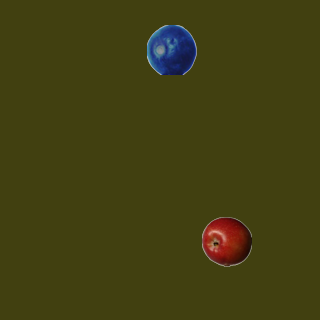Apple Braeburn: (201, 216, 251, 266)
Huckleberry: (146, 24, 196, 74)
